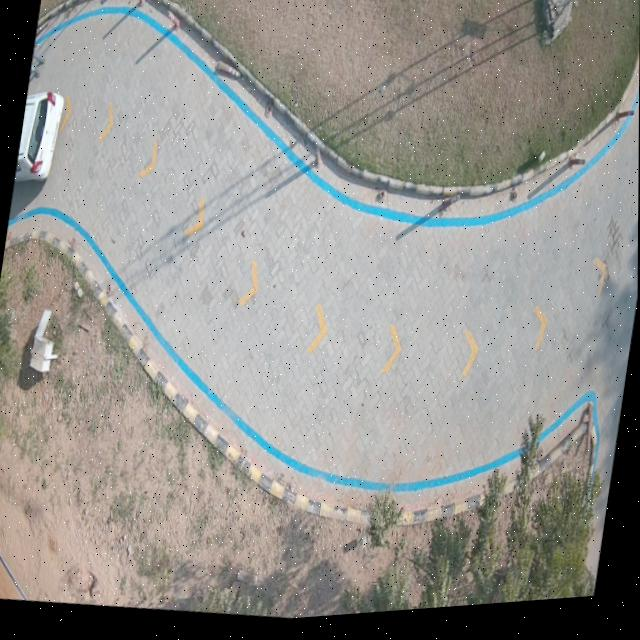car: (15, 89, 66, 182)
